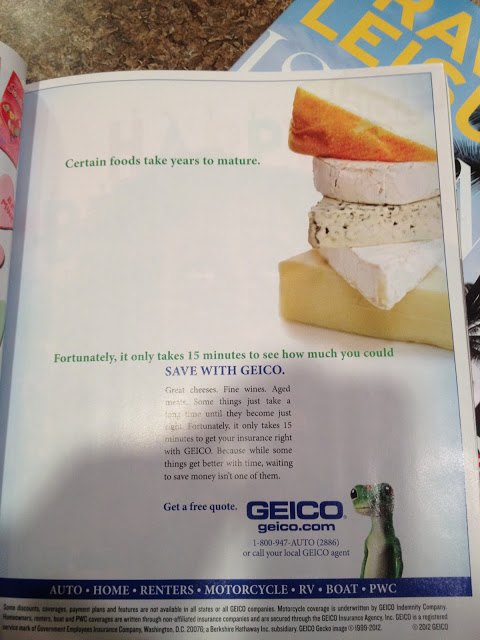geico: (243, 497, 349, 525)
